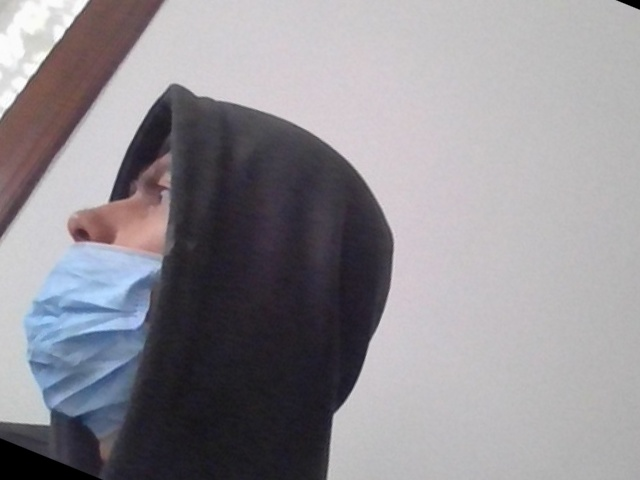mask_weared_incorrect: (17, 76, 213, 416)
